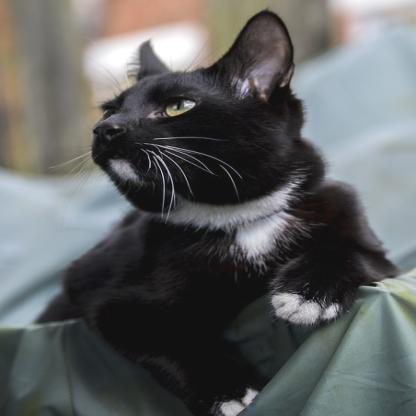cat: (39, 9, 401, 415)
